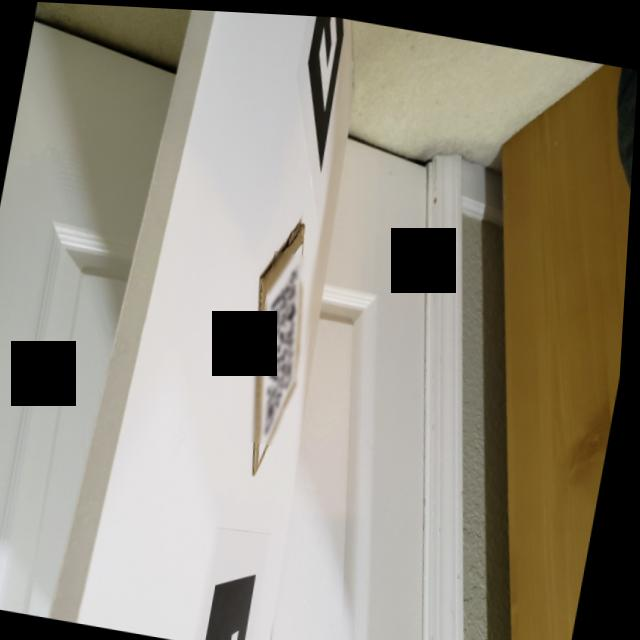QR_CODE: (244, 246, 327, 446)
